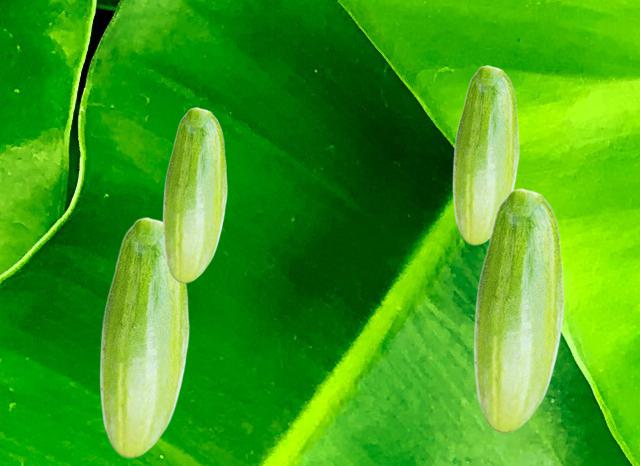cucumber: (473, 188, 563, 432), (99, 217, 188, 457), (452, 65, 518, 244), (162, 107, 226, 282)
